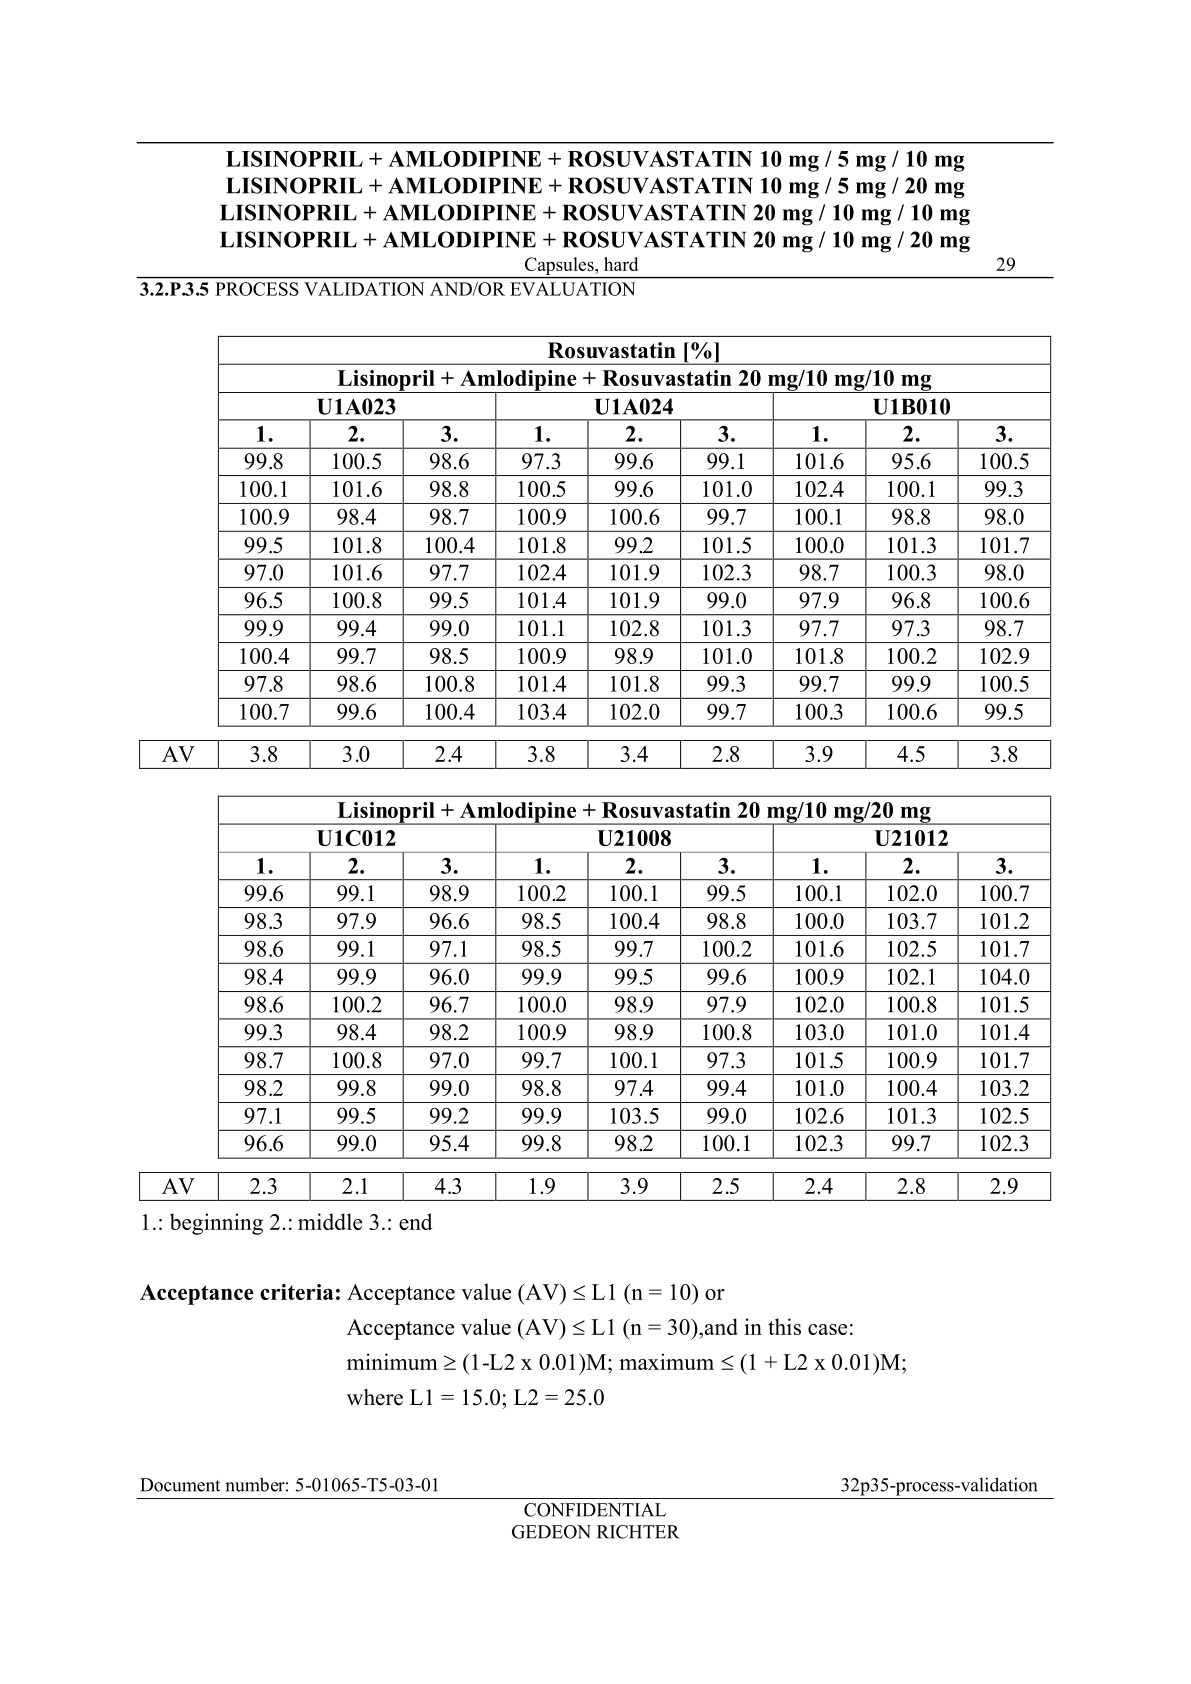full_lined: (138, 740, 1052, 769), (139, 1172, 1052, 1201)
merged_cells: (217, 335, 1052, 728), (217, 795, 1052, 1160)
